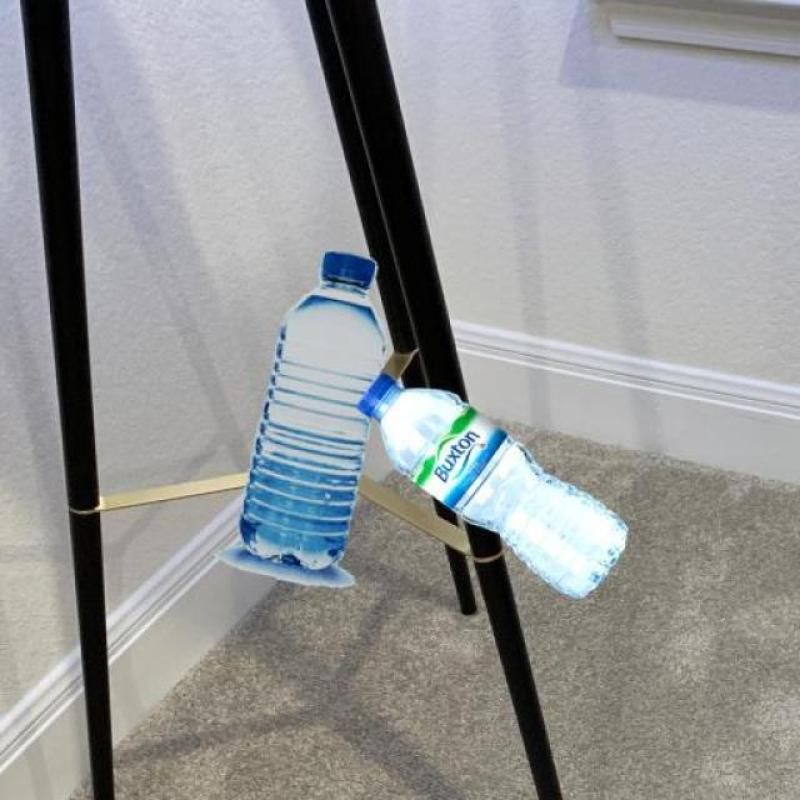botella: (358, 368, 632, 601), (239, 251, 387, 581)
